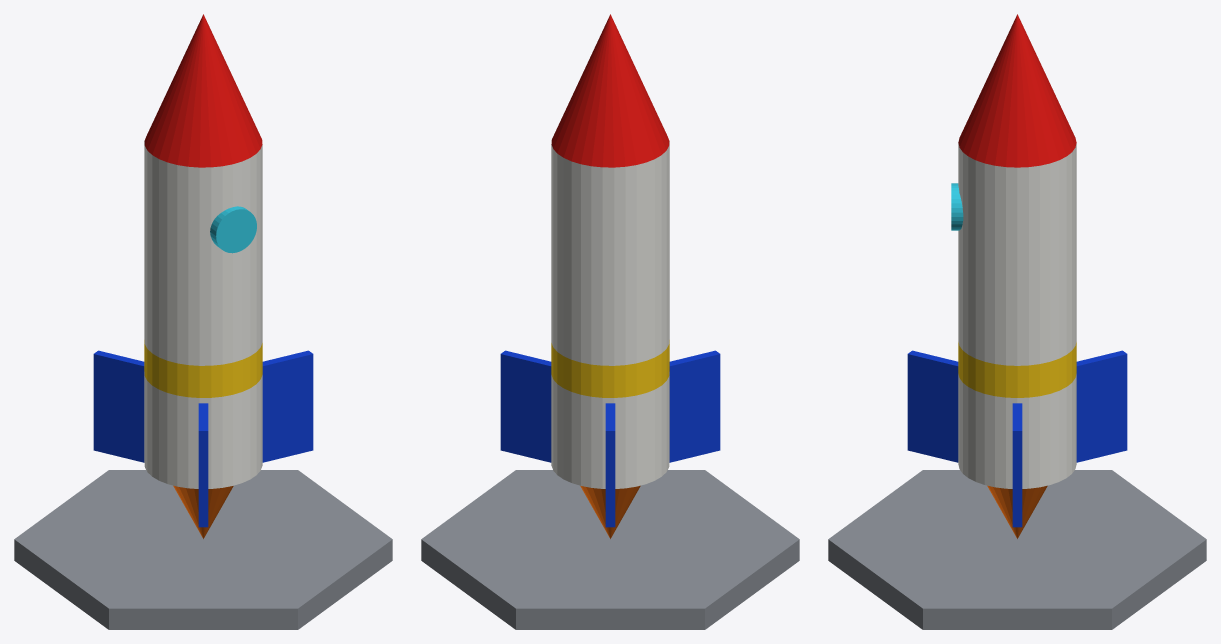
The model's file is rocket.obj.
3 views of the same model, side by side, from view 1: azimuth 30°, elevation 25°; view 2: azimuth 150°, elevation 25°; view 3: azimuth 270°, elevation 25° (orthographic).
Visible parts, largest first — view 1: Launch_pad, Hull, Fins, Nose_cone, Window, Flame; view 2: Launch_pad, Hull, Fins, Nose_cone, Flame; view 3: Launch_pad, Hull, Fins, Nose_cone, Flame.
Part boxes in pixels (x1,y1,x2,y2): Launch_pad: [14, 470, 392, 629]; Hull: [144, 141, 262, 488]; Fins: [93, 350, 313, 527]; Nose_cone: [144, 14, 262, 167]; Window: [210, 206, 256, 253]; Flame: [173, 485, 233, 538]; Launch_pad: [421, 470, 799, 629]; Hull: [551, 141, 669, 488]; Fins: [500, 350, 720, 527]; Nose_cone: [551, 14, 669, 167]; Flame: [580, 485, 640, 538]; Launch_pad: [828, 470, 1206, 629]; Hull: [958, 143, 1076, 488]; Fins: [907, 350, 1127, 527]; Nose_cone: [958, 14, 1076, 167]; Flame: [987, 485, 1047, 538].
Bounding box in the file's own units: 2.77 × 5.1 × 3.2.
